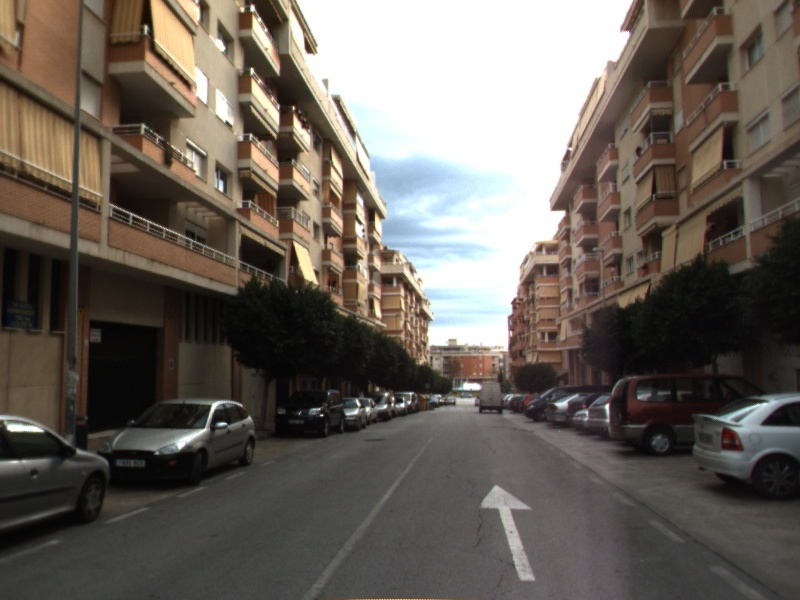STRAIGHT: (475, 482, 538, 583)
